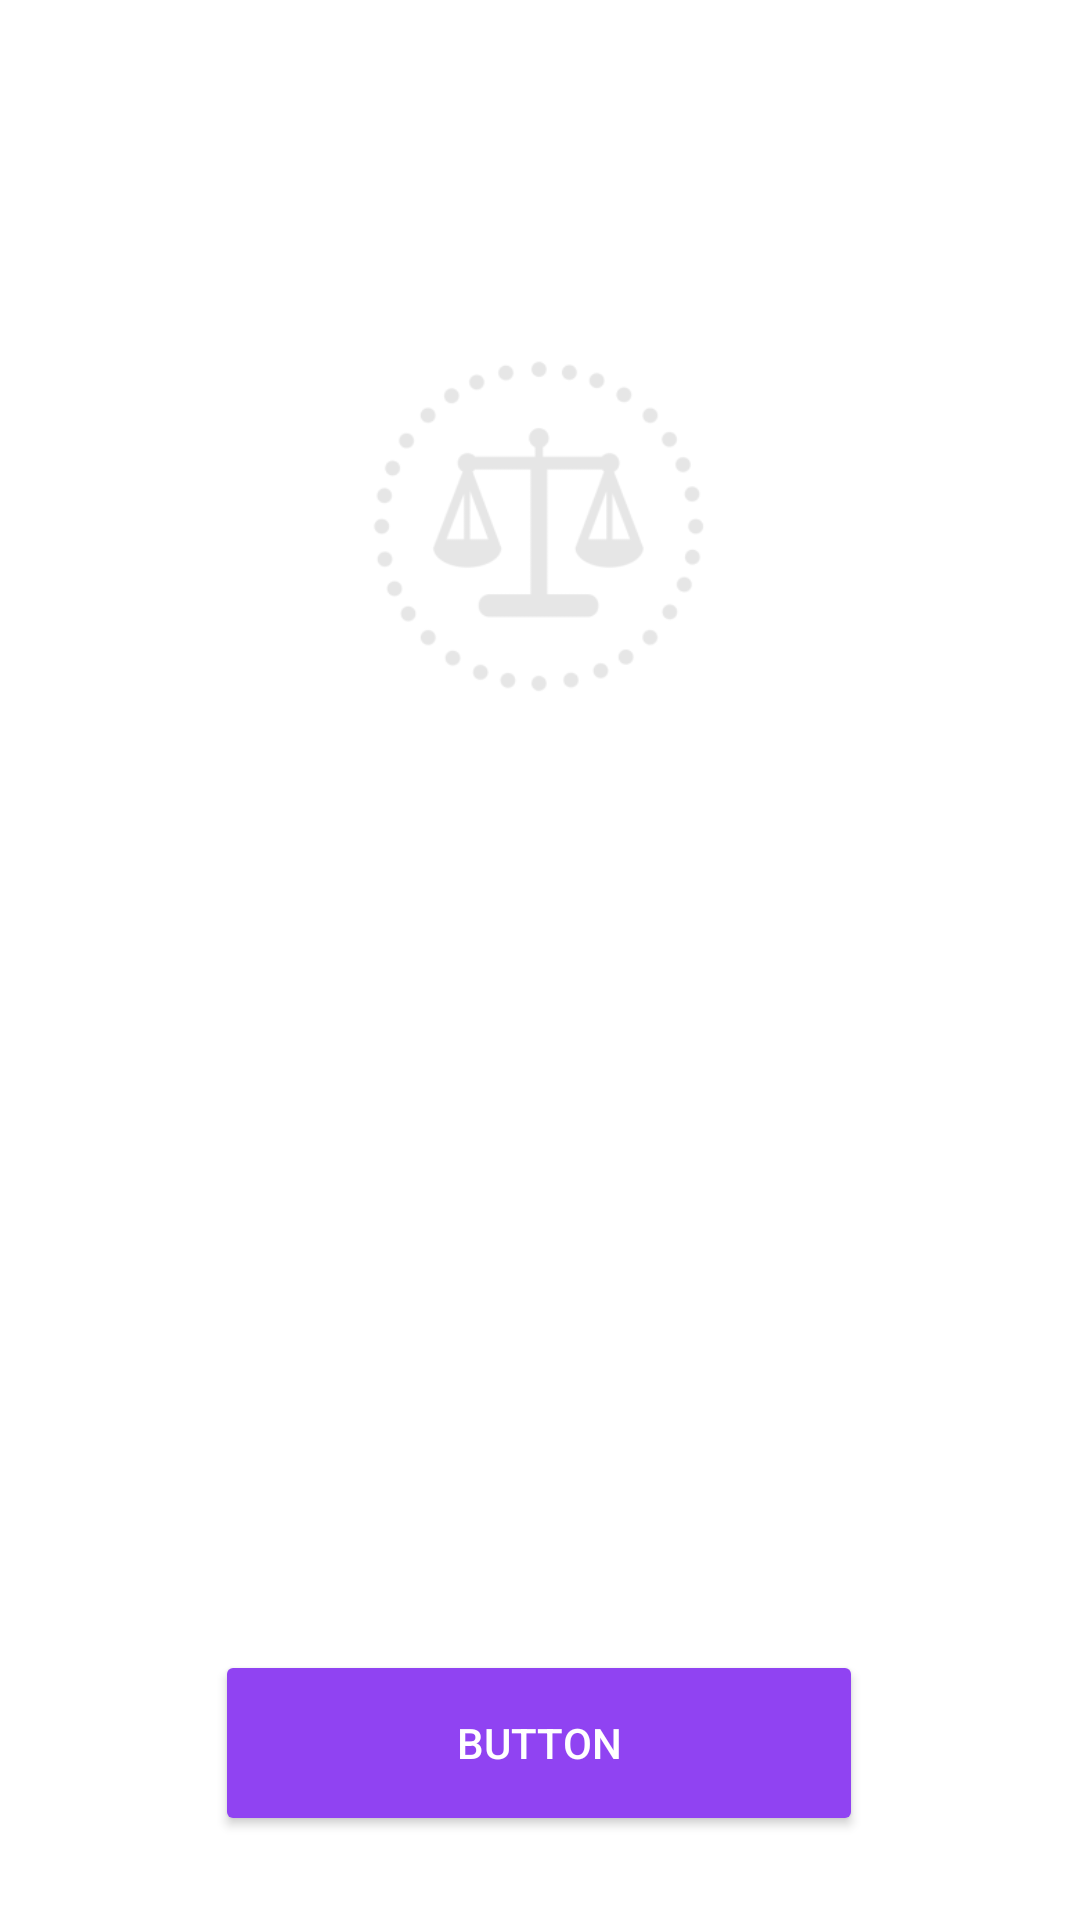

Screen size 1080w x 1920h. Icon name, then its box in pixels as (x1, y1, x2, y2):
scale: (376, 364, 701, 689)
